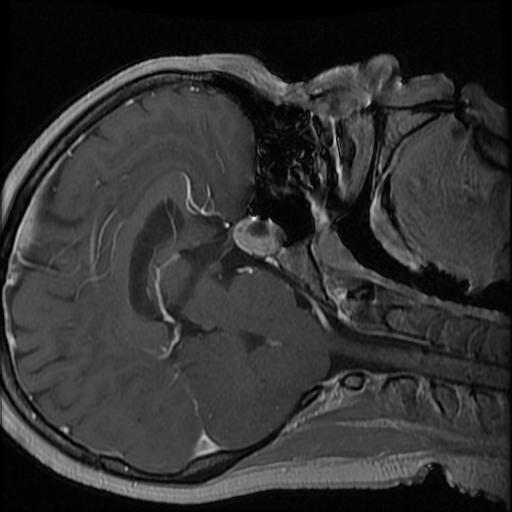pituitary tumour: (233, 215, 282, 256)
